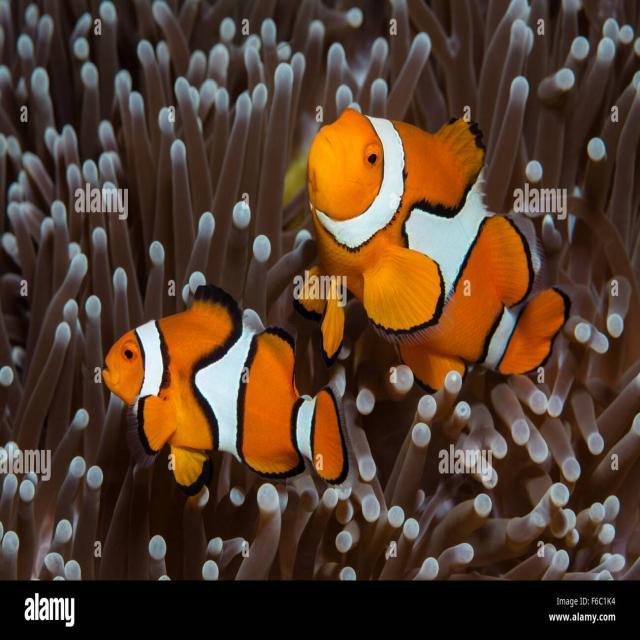ClownFish: (306, 107, 568, 382), (103, 284, 344, 492)
